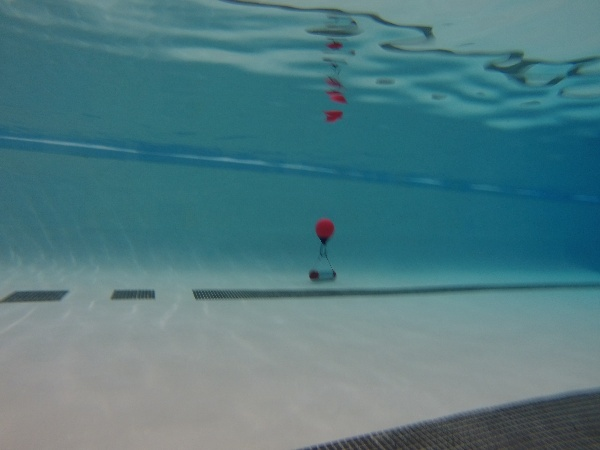buoy_red: (314, 217, 334, 245)
